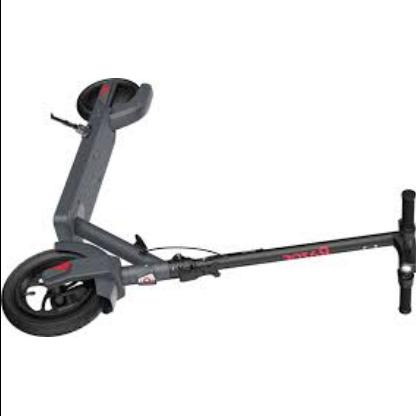bike: (3, 76, 415, 339)
